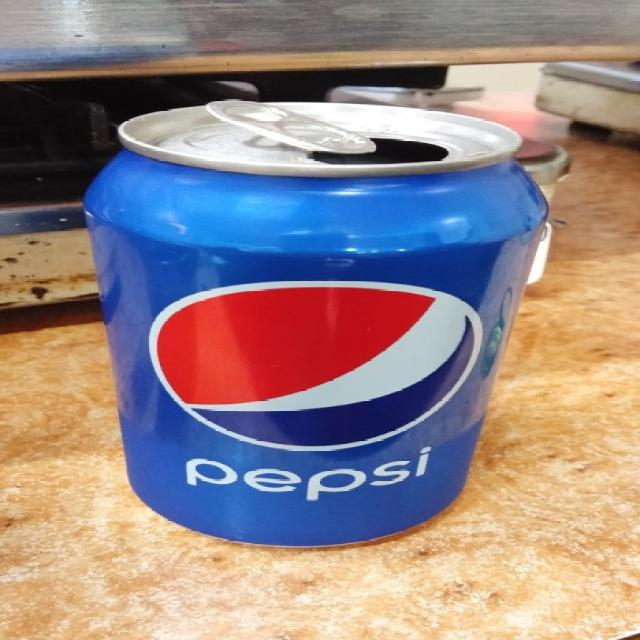Cans: (34, 66, 572, 557)
